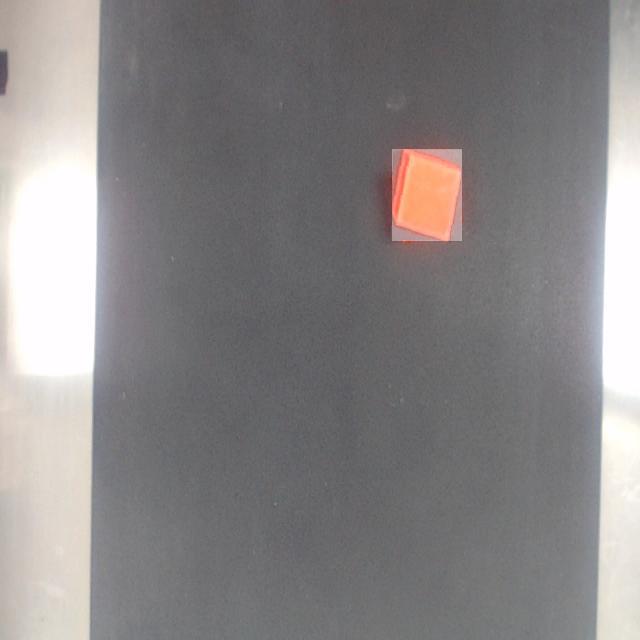Rojo: (392, 150, 462, 241)
